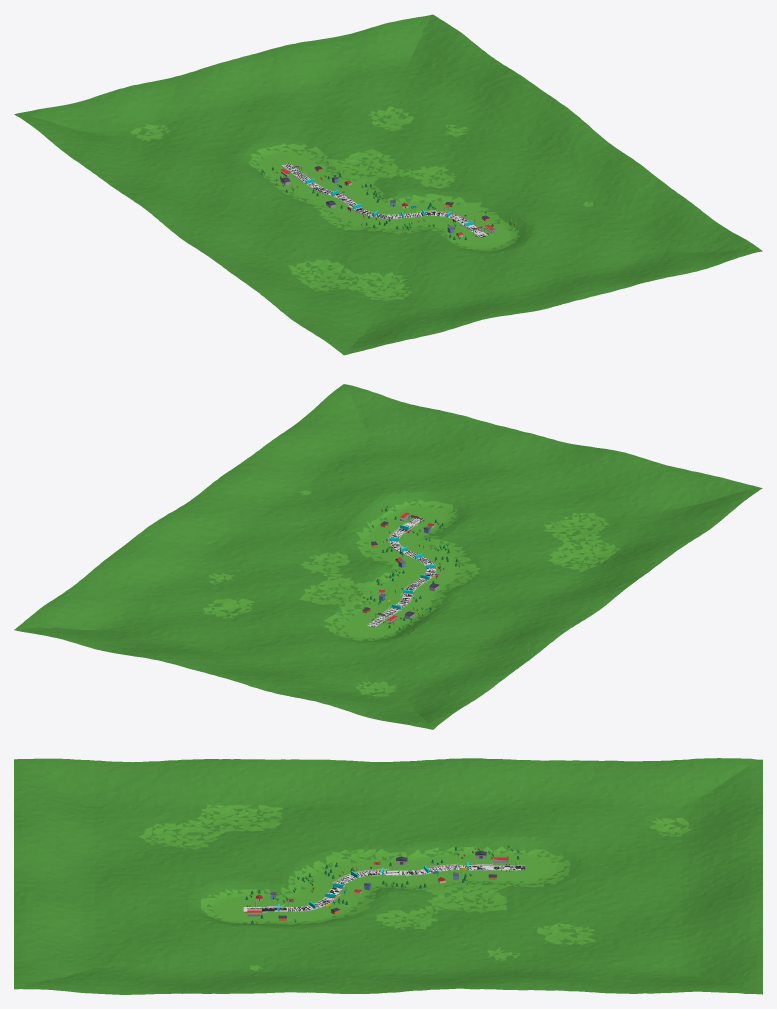
Rendered from trat.fbx.
3 renders of one model, top to bottom at view 1: azimuth 30°, elevation 25°; view 2: azimuth 150°, elevation 25°; view 3: azimuth 270°, elevation 25°, orthographic. The views are drawn at different scales.
Parts seen in each view (by area): view 1: Terrain_R4C2, Terrain_R4C1, Terrain_R4C3, Terrain_R3C3, Terrain_R2C3, Terrain_R1C3, Terrain_R3C2, Terrain_R2C2, Terrain_R4C0, Terrain_R1C1, Terrain_R0C3, Terrain_R3C1 (+10 smaller); view 2: Terrain_R0C3, Terrain_R0C1, Terrain_R0C2, Terrain_R3C3, Terrain_R2C3, Terrain_R1C3, Terrain_R0C0, Terrain_R1C1, Terrain_R1C2, Terrain_R3C2, Terrain_R2C2, Terrain_R4C3 (+10 smaller); view 3: Terrain_R1C0, Terrain_R2C0, Terrain_R4C0, Terrain_R3C0, Terrain_R0C0, Terrain_R0C2, Terrain_R3C2, Terrain_R0C1, Terrain_R3C1, Terrain_R4C2, Terrain_R1C1, Terrain_R4C1 (+10 smaller).
Part boxes in pixels (box(x1,y1,x2,y2)): Terrain_R4C2: box(223, 38, 393, 121); Terrain_R4C1: box(119, 62, 289, 146); Terrain_R4C3: box(328, 14, 498, 95); Terrain_R3C3: box(394, 61, 564, 145); Terrain_R2C3: box(461, 106, 630, 193); Terrain_R1C3: box(526, 158, 696, 239); Terrain_R3C2: box(290, 96, 459, 172); Terrain_R2C2: box(356, 145, 525, 221); Terrain_R4C0: box(14, 89, 184, 163); Terrain_R1C1: box(316, 222, 486, 295); Terrain_R0C3: box(592, 207, 762, 279); Terrain_R3C1: box(185, 121, 355, 194); Terrain_R0C3: box(278, 384, 448, 468); Terrain_R0C1: box(488, 439, 657, 523); Terrain_R0C2: box(384, 412, 552, 494); Terrain_R3C3: box(80, 528, 250, 615); Terrain_R2C3: box(146, 483, 317, 567); Terrain_R1C3: box(212, 436, 383, 519); Terrain_R0C0: box(592, 462, 762, 537); Terrain_R1C1: box(421, 495, 591, 569); Terrain_R1C2: box(318, 468, 486, 547); Terrain_R3C2: box(184, 568, 355, 639); Terrain_R2C2: box(251, 519, 419, 594); Terrain_R4C3: box(14, 580, 183, 653); Terrain_R1C0: box(162, 759, 314, 832); Terrain_R2C0: box(312, 758, 464, 830); Terrain_R4C0: box(612, 758, 762, 832); Terrain_R3C0: box(462, 758, 614, 829); Terrain_R0C0: box(14, 758, 164, 832); Terrain_R0C2: box(14, 878, 164, 947); Terrain_R3C2: box(462, 886, 614, 947); Terrain_R0C1: box(14, 817, 164, 886); Terrain_R3C1: box(462, 826, 614, 890); Terrain_R4C2: box(612, 874, 762, 945); Terrain_R1C1: box(162, 829, 314, 892); Terrain_R4C1: box(612, 818, 762, 886).
Size of the model in its own units: 70400 by 2746 by 96000.
